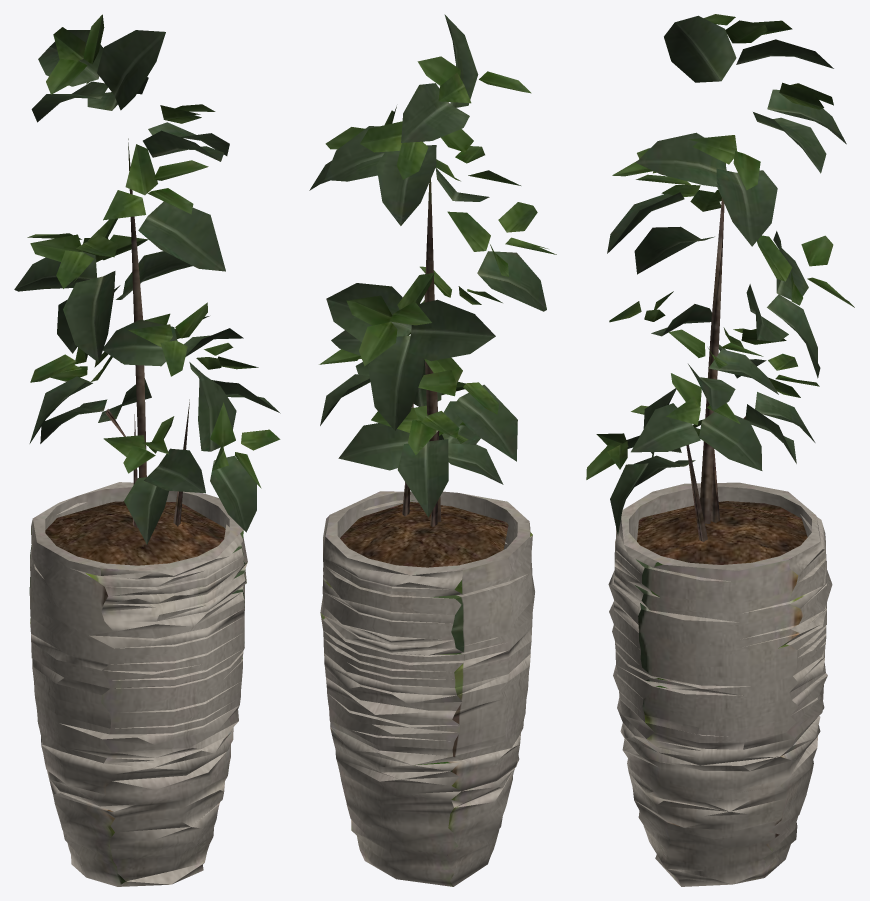
The model's file is Plant0013.obj.
3 views of the same model, side by side, from view 1: azimuth 30°, elevation 25°; view 2: azimuth 150°, elevation 25°; view 3: azimuth 270°, elevation 25° (orthographic). The views are drawn at different scales.
Size of the model in its own units: 0.478 by 1.86 by 0.536.
1 material, 1 textured.
